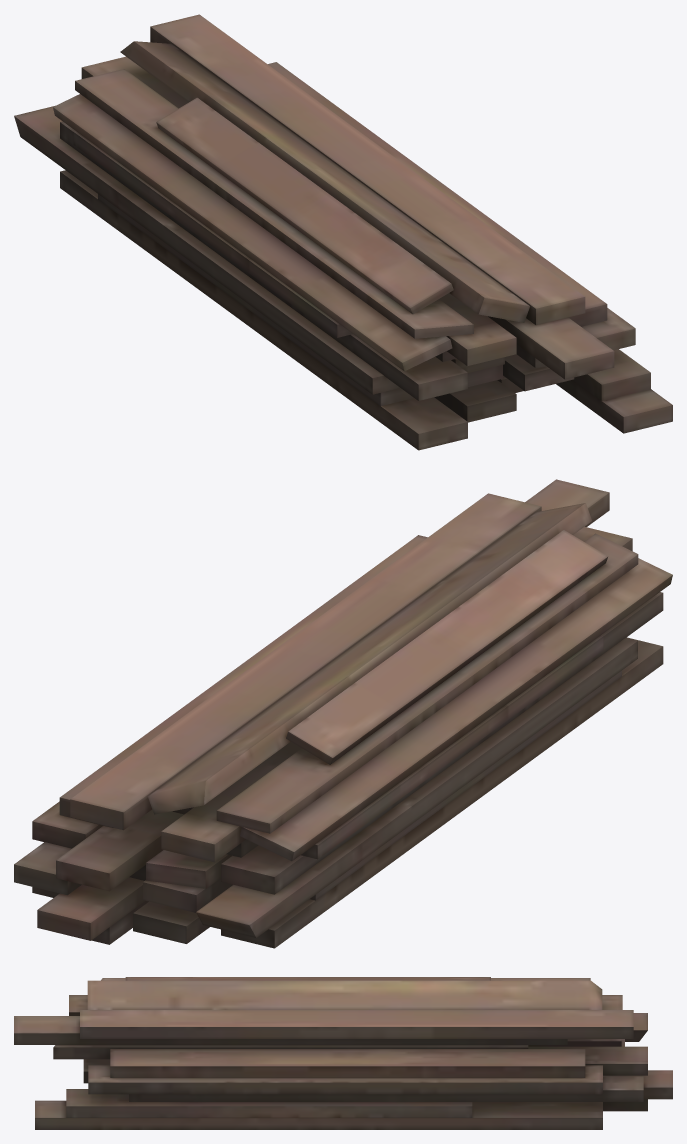
3 views of the same model, one above another, from view 1: azimuth 30°, elevation 25°; view 2: azimuth 150°, elevation 25°; view 3: azimuth 270°, elevation 25° (orthographic). The views are drawn at different scales.
Visible parts, largest first — view 1: body0_model0_lod0_mesh0; view 2: body0_model0_lod0_mesh0; view 3: body0_model0_lod0_mesh0.
Part boxes in pixels (x1,y1,x2,y2): body0_model0_lod0_mesh0: (14,14,672,450); body0_model0_lod0_mesh0: (14,479,672,948); body0_model0_lod0_mesh0: (14,977,672,1129).
Bounding box in the file's own units: 51.06 × 27.99 × 174.
Materials: 1 (1 with a texture image).
